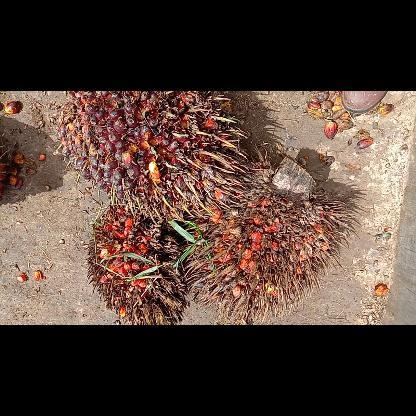TBS masak: (55, 90, 251, 226)
Terlalu masak: (192, 154, 352, 322), (82, 204, 190, 324)
